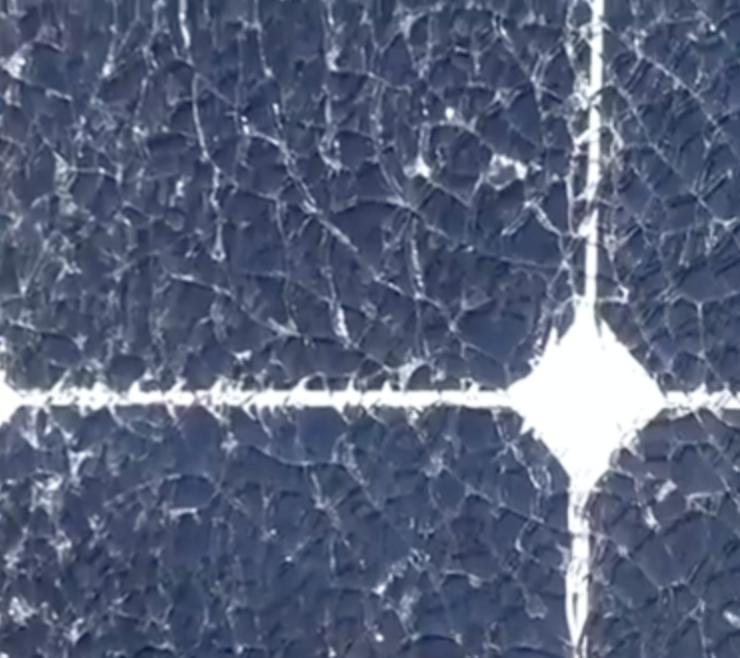Crack: (8, 2, 740, 650)
